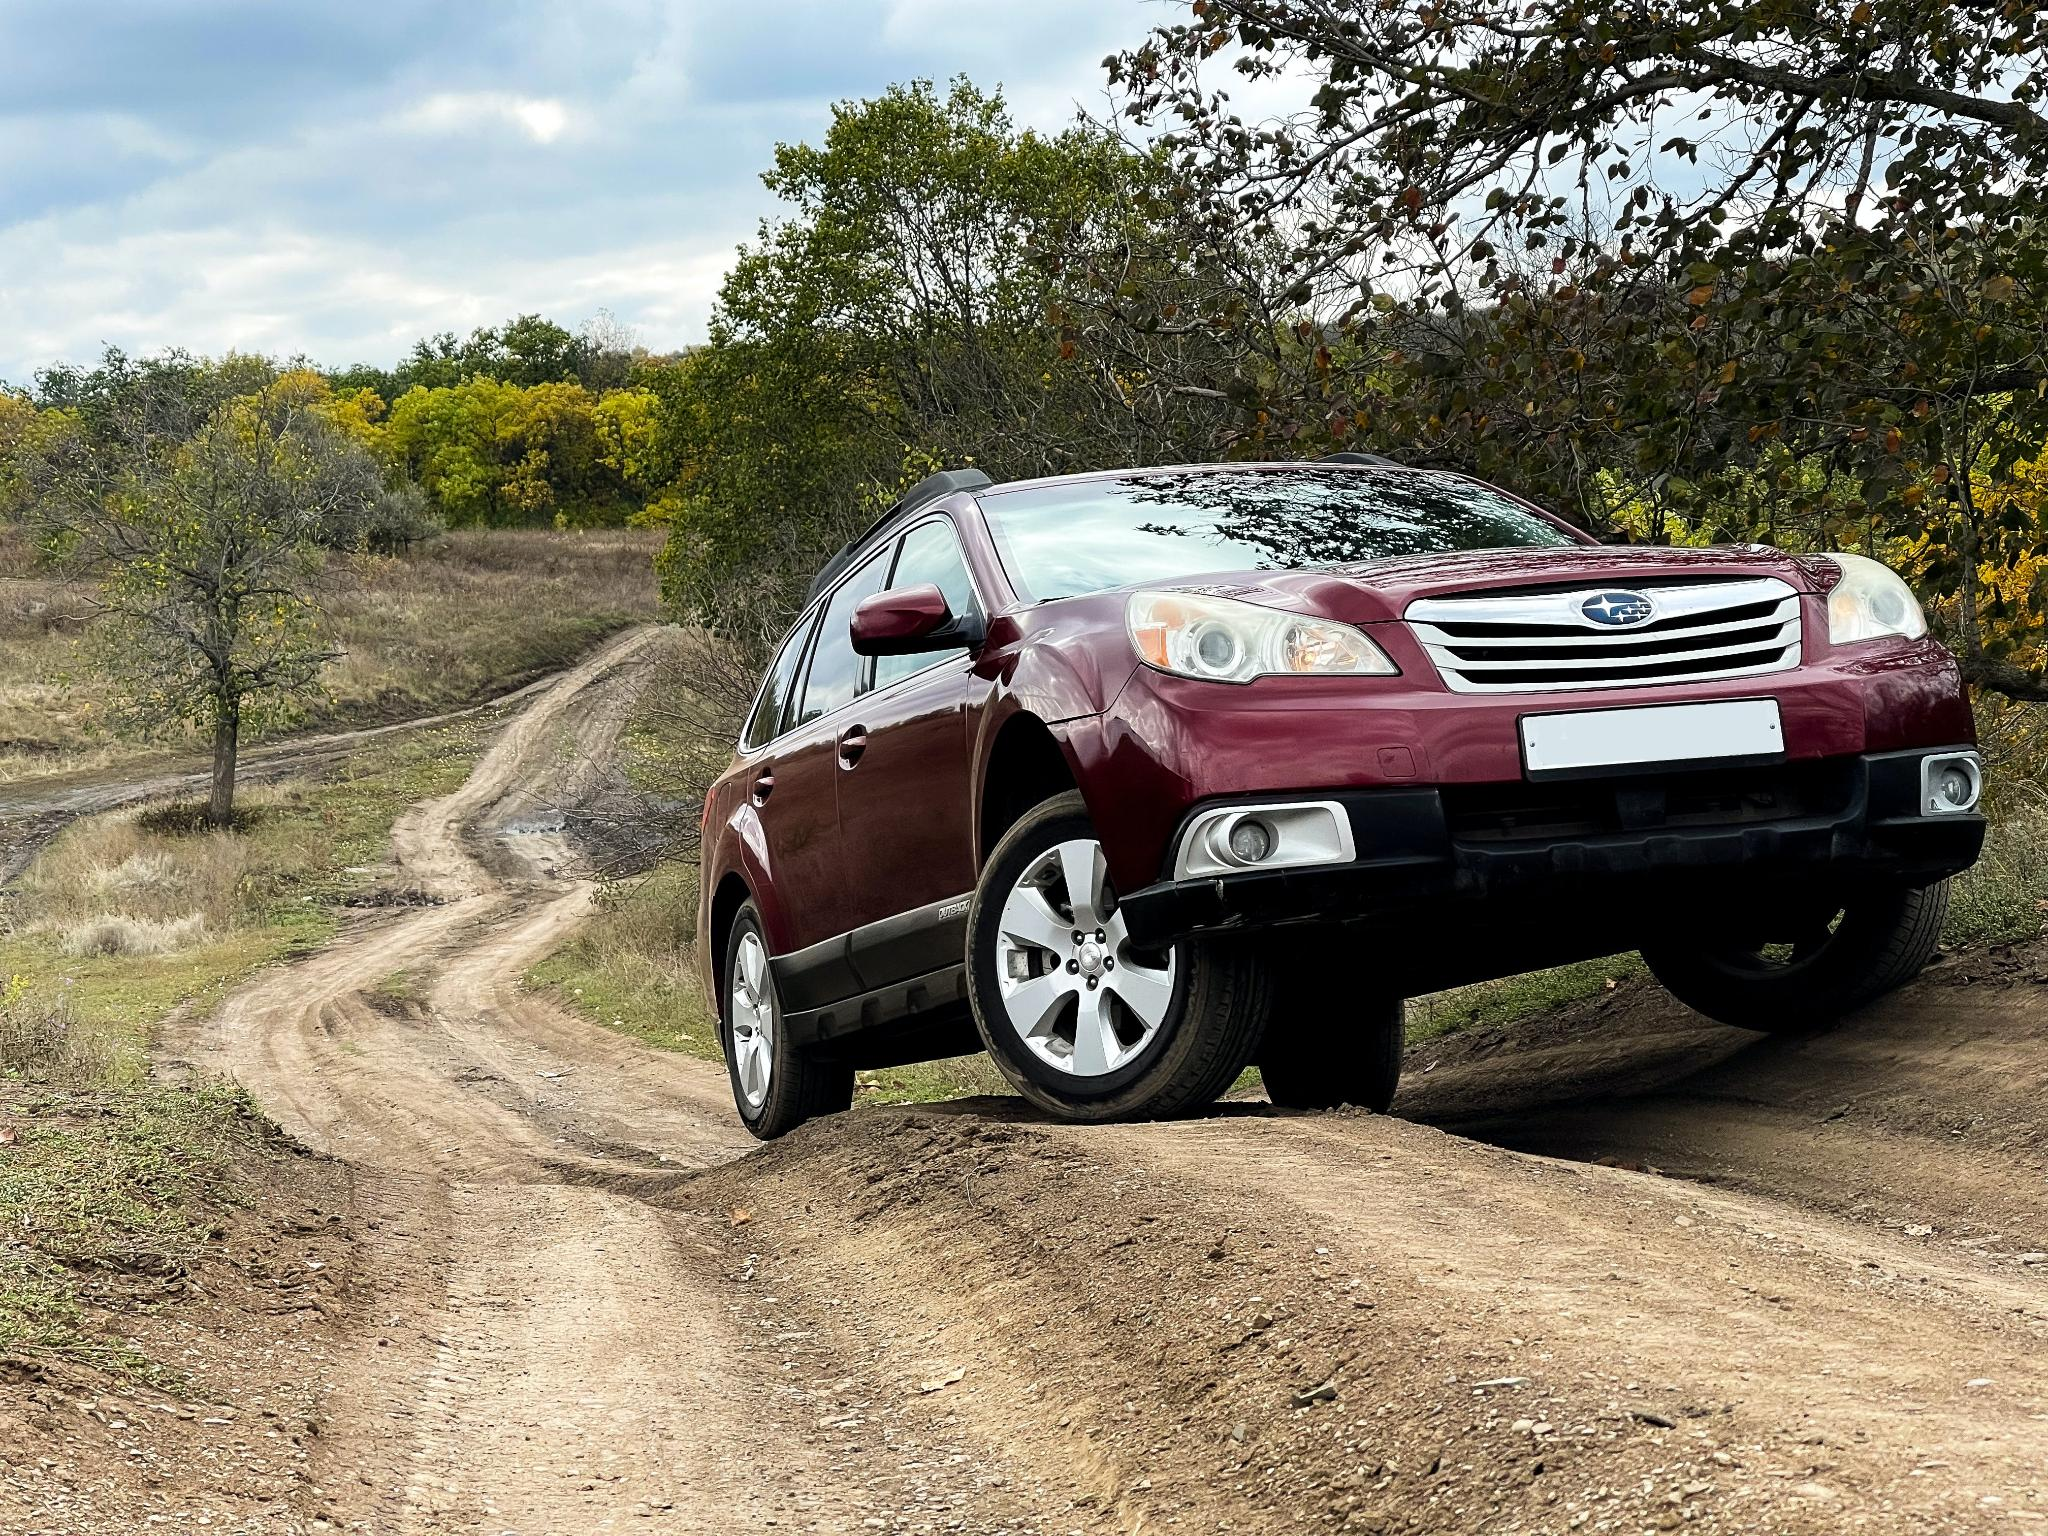subaru: (1561, 578, 1672, 645)
